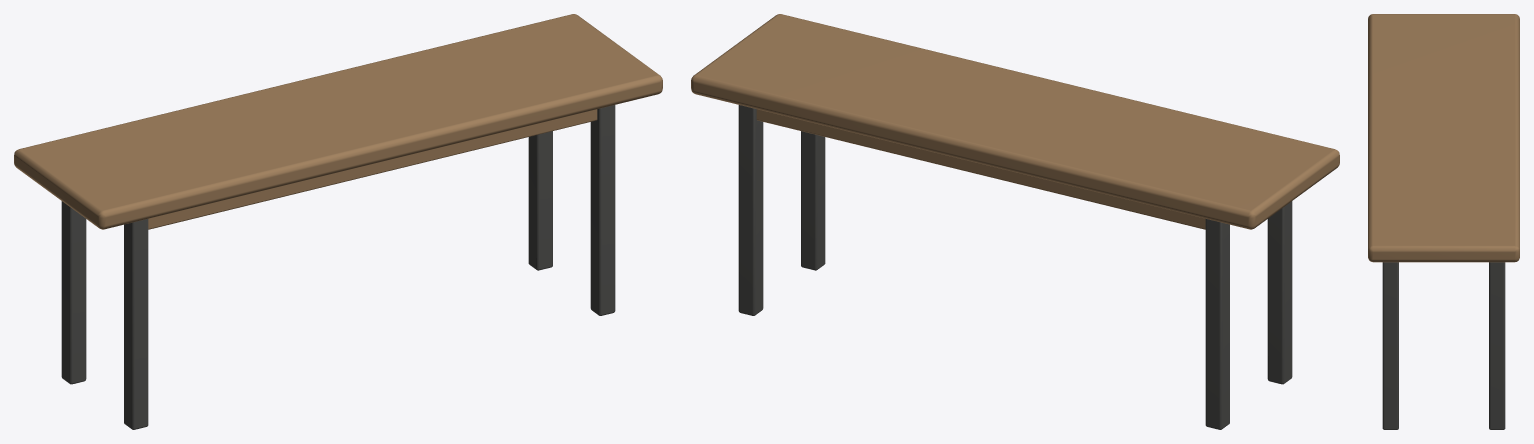
The model's file is PenReturnDesk.fbx.
3 renders of one model, left to right at view 1: azimuth 30°, elevation 25°; view 2: azimuth 150°, elevation 25°; view 3: azimuth 270°, elevation 25°, orthographic. The views are drawn at different scales.
Visible parts, largest first — view 1: PenReturnDesk; view 2: PenReturnDesk; view 3: PenReturnDesk.
Part boxes in pixels (<box>): PenReturnDesk: <box>14,14,662,429</box>; PenReturnDesk: <box>691,14,1339,429</box>; PenReturnDesk: <box>1368,14,1519,429</box>.
Size of the model in its own units: 2.2 by 0.87 by 0.6.
